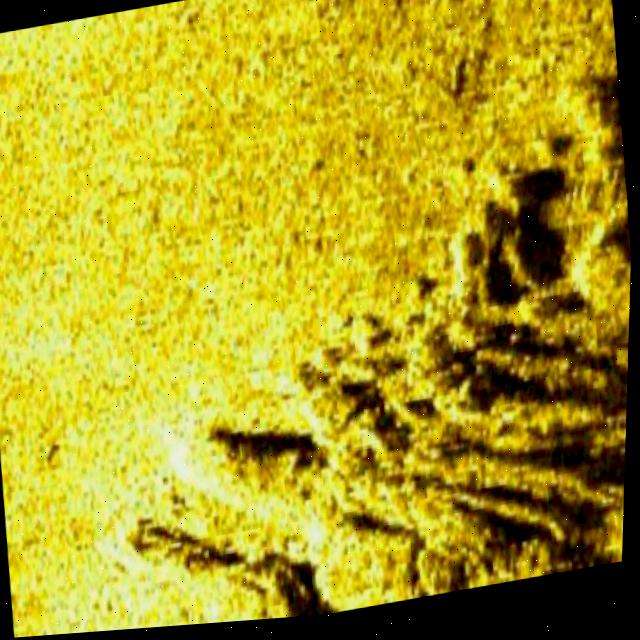bedrock group: (60, 77, 637, 636)
